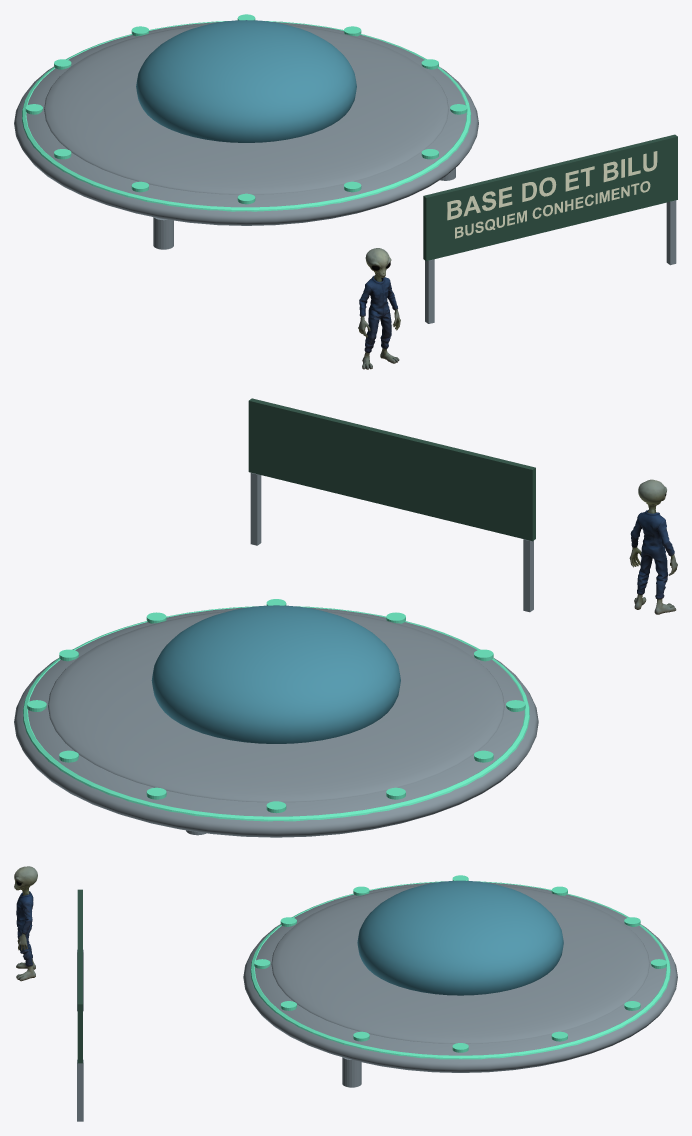
The model's file is secret-alien.glb.
3 views of the same model, one above another, from view 1: azimuth 30°, elevation 25°; view 2: azimuth 150°, elevation 25°; view 3: azimuth 270°, elevation 25° (orthographic). The views are drawn at different scales.
Visible parts, largest first — view 1: Saucer_Curved_Hull.001, Saucer_Curved_Hull.002, Saucer_Curved_Hull, ET_Sign, Torus, tripo_node_34112af3-8a16-4b62-9e84-cac0ad1b30a2, Sign_BASE DO ET BILU, Sign_BUSQUEM CONHECIMENTO, ET_Sign_Post.001, Saucer_Landing_Gear, ET_Sign_Post; view 2: Saucer_Curved_Hull.001, Saucer_Curved_Hull.002, ET_Sign, Saucer_Curved_Hull, Torus, tripo_node_34112af3-8a16-4b62-9e84-cac0ad1b30a2, ET_Sign_Post.001, ET_Sign_Post; view 3: Saucer_Curved_Hull.001, Saucer_Curved_Hull.002, Saucer_Curved_Hull, Torus, tripo_node_34112af3-8a16-4b62-9e84-cac0ad1b30a2, ET_Sign, Saucer_Landing_Gear.001, ET_Sign_Post.001.
Part boxes in pixels (left/top/right/bottom): Saucer_Curved_Hull.001: left=44, top=25, right=448, bottom=194; Saucer_Curved_Hull.002: left=136, top=20, right=356, bottom=142; Saucer_Curved_Hull: left=14, top=22, right=478, bottom=225; ET_Sign: left=423, top=134, right=677, bottom=261; Torus: left=22, top=20, right=471, bottom=211; tripo_node_34112af3-8a16-4b62-9e84-cac0ad1b30a2: left=358, top=248, right=400, bottom=369; Sign_BASE DO ET BILU: left=447, top=151, right=657, bottom=220; Sign_BUSQUEM CONHECIMENTO: left=455, top=181, right=650, bottom=238; ET_Sign_Post.001: left=666, top=200, right=676, bottom=265; Saucer_Landing_Gear: left=153, top=217, right=173, bottom=249; ET_Sign_Post: left=425, top=259, right=434, bottom=323; Saucer_Curved_Hull.001: left=48, top=611, right=504, bottom=802; Saucer_Curved_Hull.002: left=151, top=605, right=400, bottom=743; ET_Sign: left=248, top=398, right=535, bottom=541; Saucer_Curved_Hull: left=14, top=607, right=538, bottom=837; Torus: left=23, top=606, right=529, bottom=821; tripo_node_34112af3-8a16-4b62-9e84-cac0ad1b30a2: left=629, top=479, right=677, bottom=614; ET_Sign_Post.001: left=250, top=472, right=261, bottom=545; ET_Sign_Post: left=523, top=539, right=533, bottom=612; Saucer_Curved_Hull.001: left=271, top=885, right=649, bottom=1043; Saucer_Curved_Hull.002: left=357, top=880, right=563, bottom=995; Saucer_Curved_Hull: left=243, top=882, right=677, bottom=1072; Torus: left=250, top=881, right=670, bottom=1059; tripo_node_34112af3-8a16-4b62-9e84-cac0ad1b30a2: left=14, top=866, right=37, bottom=981; ET_Sign: left=77, top=889, right=82, bottom=1063; Saucer_Landing_Gear.001: left=342, top=1057, right=361, bottom=1087; ET_Sign_Post.001: left=77, top=1059, right=83, bottom=1121.
Size of the model in its own units: 8.5 by 2.45 by 12.22.
6 materials, 1 textured.
